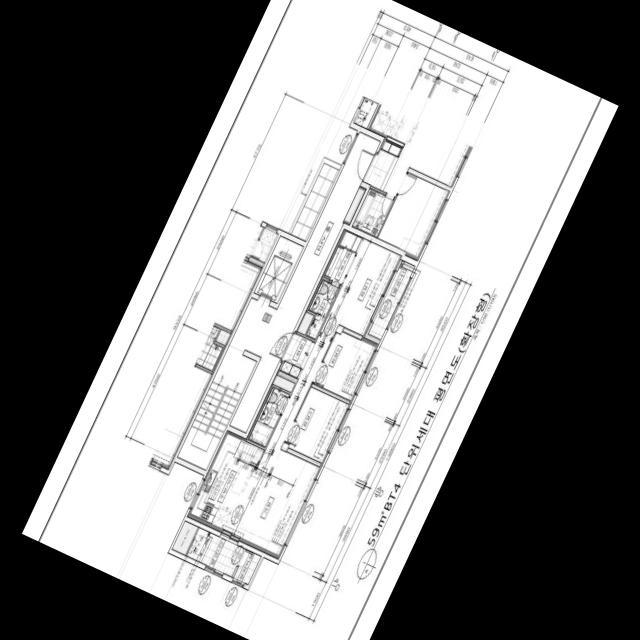background: (22, 0, 618, 640)
space_balconi: (368, 260, 415, 339), (186, 527, 245, 576)
space_bedroom: (320, 239, 402, 338), (286, 387, 350, 463), (313, 331, 378, 401)
space_dressroom: (324, 230, 363, 285)
space_elevator: (254, 236, 303, 303)
space_elevator_hall: (230, 132, 380, 433)
space_front: (279, 331, 315, 379)
space_kitchen: (188, 430, 257, 532)
space_living_room: (228, 335, 331, 558)
space_other: (172, 521, 198, 555), (344, 186, 366, 224), (272, 374, 295, 392), (297, 311, 314, 334)
space_outdoor_room: (234, 550, 261, 585)
space_staircase: (177, 348, 257, 470), (233, 438, 264, 464)
space_toilet: (248, 387, 290, 447), (306, 279, 340, 340)
